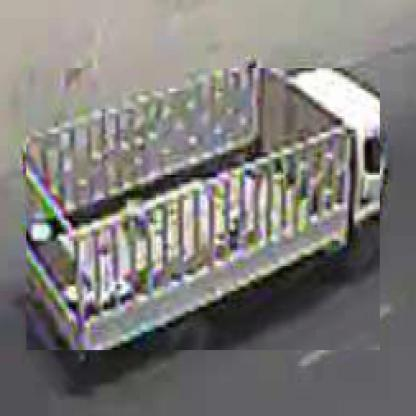truck: (26, 70, 381, 354)
